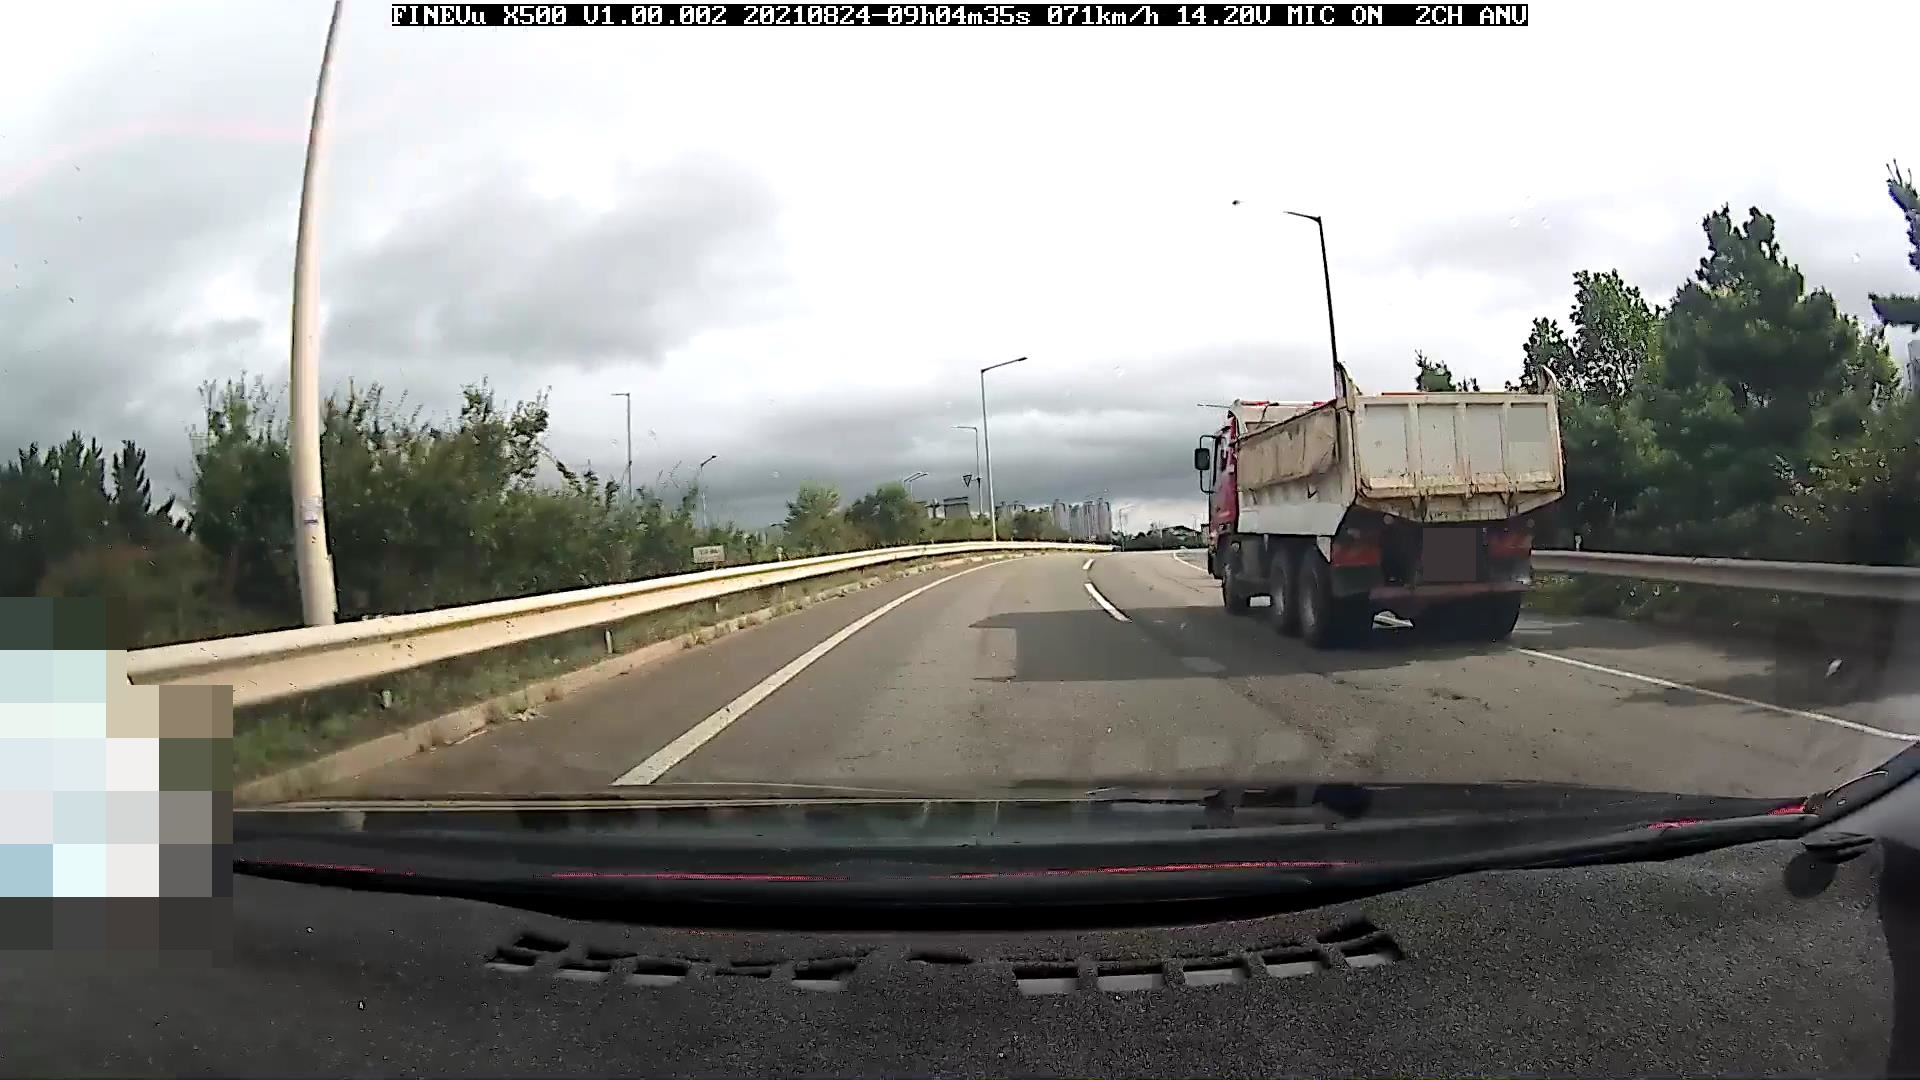정상차량: (1193, 392, 1565, 649)
